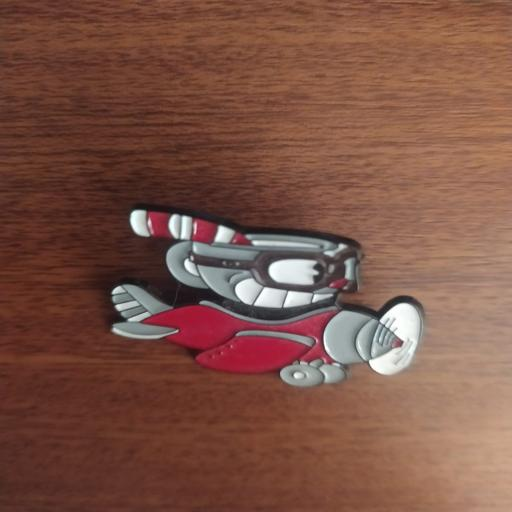Pin: (92, 201, 432, 395)
